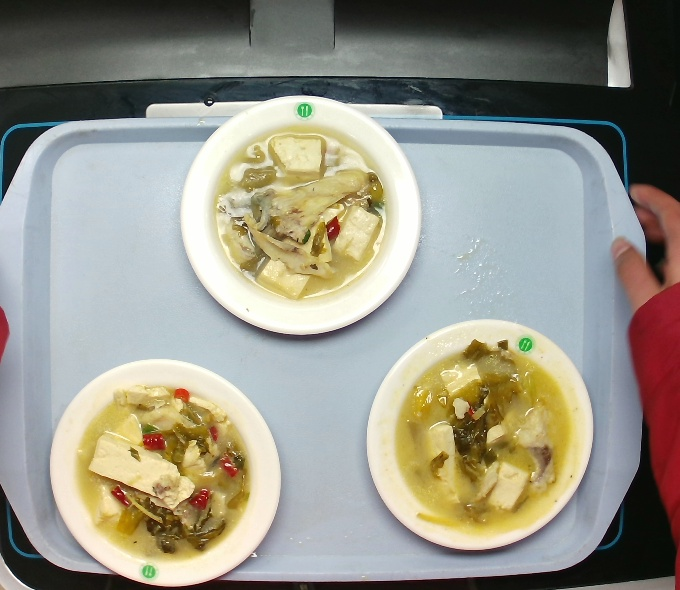wcq-SuanCaiDouFuYu: (388, 331, 573, 539), (74, 377, 253, 569), (215, 129, 390, 298)
